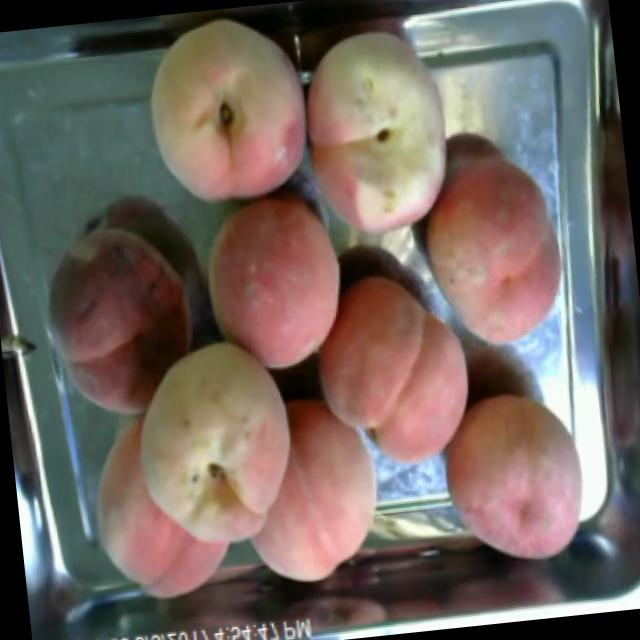Fruit: (116, 324, 314, 566), (18, 198, 218, 434), (294, 252, 491, 483), (400, 119, 584, 363), (295, 15, 472, 256), (127, 3, 318, 226), (224, 382, 402, 601), (185, 172, 366, 386), (427, 376, 608, 583)
